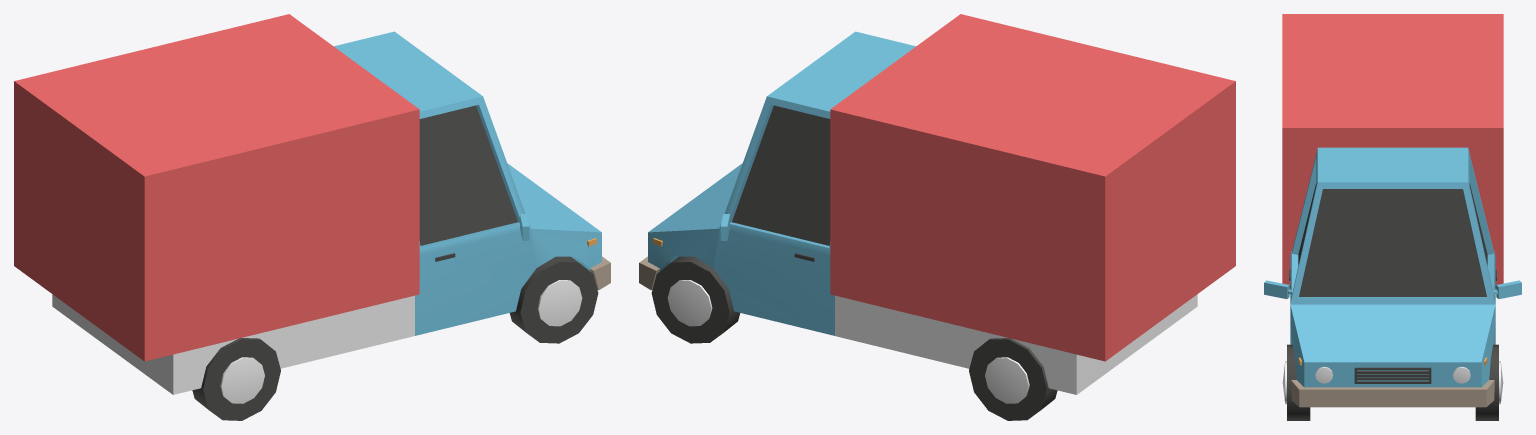
The model's file is truck_blue.fbx.
3 renders of one model, left to right at view 1: azimuth 30°, elevation 25°; view 2: azimuth 150°, elevation 25°; view 3: azimuth 270°, elevation 25°, orthographic. The views are drawn at different scales.
Visible parts, largest first — view 1: truck_blue; view 2: truck_blue; view 3: truck_blue.
Part boxes in pixels (x1=…): truck_blue: x1=14, y1=14, x2=610, y2=420; truck_blue: x1=639, y1=14, x2=1235, y2=420; truck_blue: x1=1264, y1=14, x2=1521, y2=420.
Size of the model in its own units: 286 by 156 by 158.
Materials: 1 (1 with a texture image).
